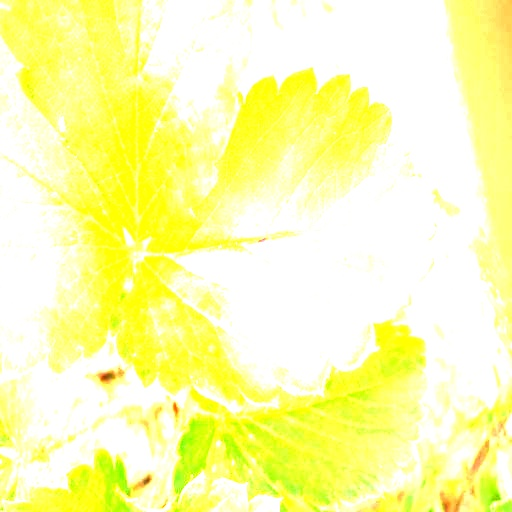Leaf Spot: (108, 65, 440, 412), (0, 39, 133, 385)
